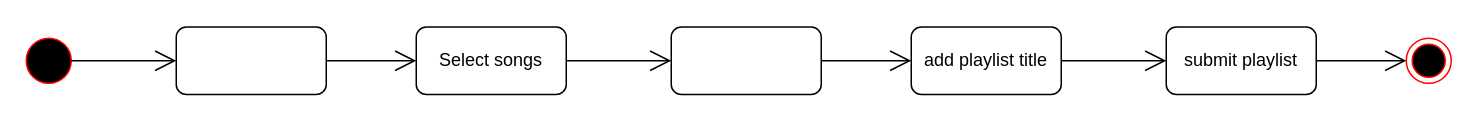
Image size: 1478x120. Some labels were removed from this diagram. Here are the shapes that lost their labels. From the top down, the centre of each, then its label:
At point (250, 60): "Start creation process".
At point (745, 60): "check if you selected at least 1 song".
